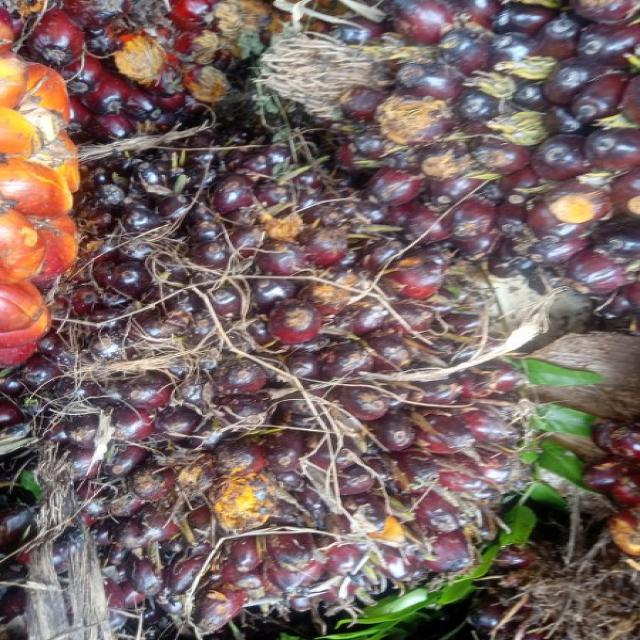fraksi 1: (39, 135, 522, 628)
